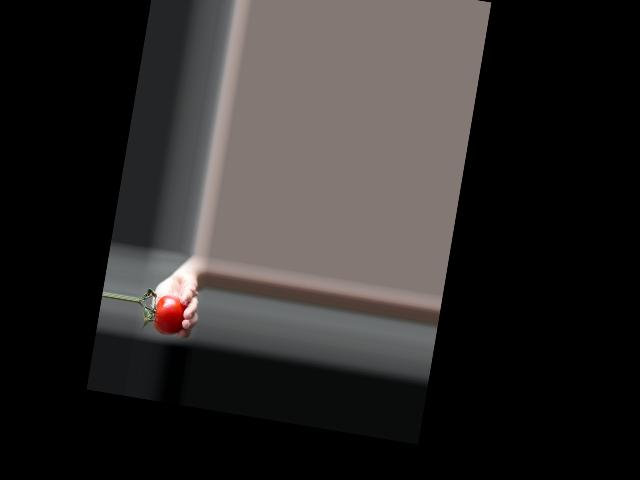tomato: (151, 293, 188, 337)
